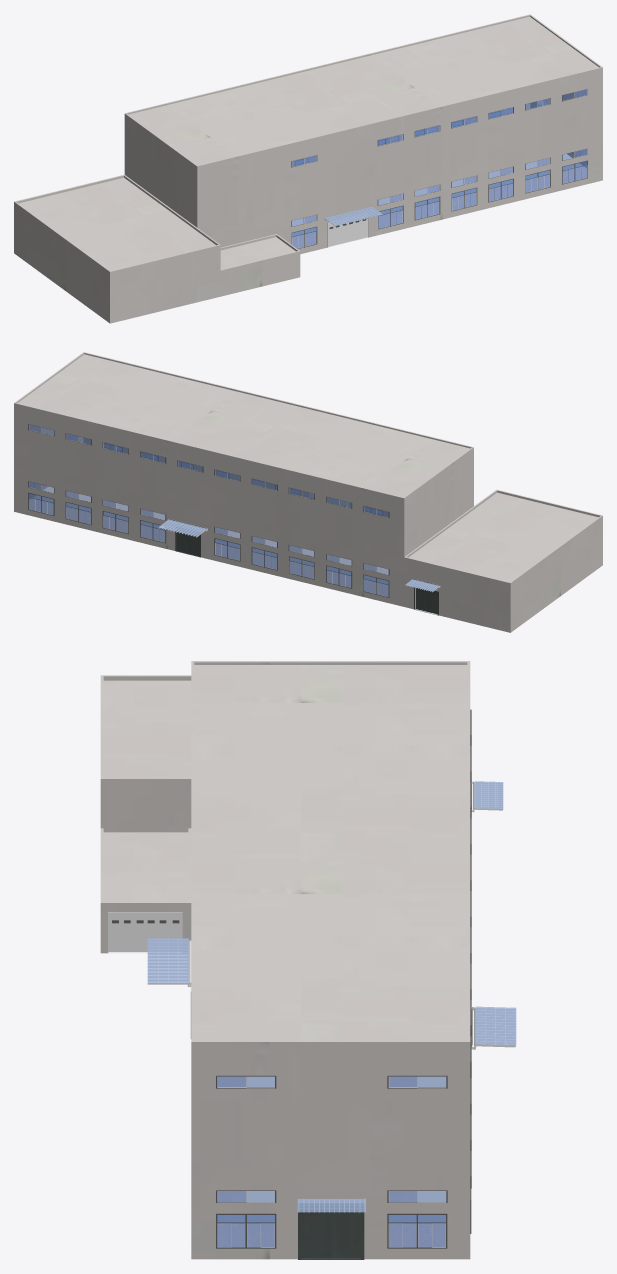
File: GCJGCF.dae
3 renders of one model, top to bottom at view 1: azimuth 30°, elevation 25°; view 2: azimuth 150°, elevation 25°; view 3: azimuth 270°, elevation 25°, orthographic. The views are drawn at different scales.
Visible parts, largest first — view 1: SketchUp (×4), Door_Garage_Double, group_5; view 2: SketchUp (×4), Door_Glass_Double_Header_6-0x6-8, Door_Glass_Double_6-0x6-8, group_5; view 3: SketchUp (×4), group_5 (×4), Door_Glass_Double_Header_6-0x6-8, Door_Garage_Double.
Boxes of the visible parts, x1,y1,x2,y2 form: SketchUp (×4): (14, 14, 602, 323); Door_Garage_Double: (327, 213, 368, 247); group_5: (325, 206, 382, 225); SketchUp (×4): (14, 352, 602, 632); Door_Glass_Double_Header_6-0x6-8: (175, 527, 200, 557); Door_Glass_Double_6-0x6-8: (416, 588, 437, 614); group_5: (159, 519, 206, 536); SketchUp (×4): (100, 661, 470, 1259); group_5 (×4): (147, 781, 516, 1212); Door_Glass_Double_Header_6-0x6-8: (298, 1204, 364, 1259); Door_Garage_Double: (108, 912, 182, 953).
Size of the model in its own units: 3079 by 1084 by 626.
11 materials, 3 textured.
